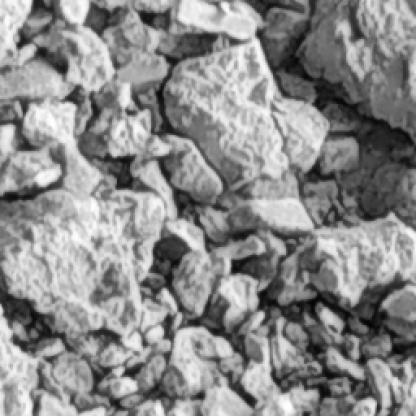cementitious_debris: (0, 3, 414, 413)
